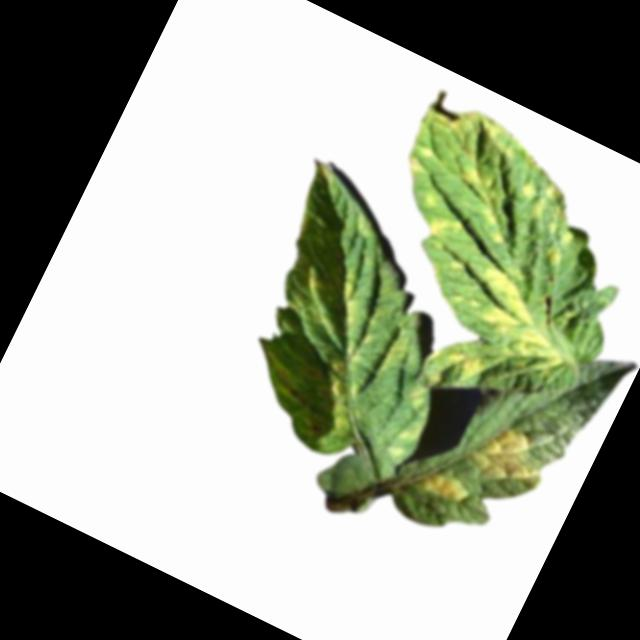Leaf_Mold: (396, 90, 537, 221), (453, 263, 589, 385), (462, 414, 556, 501), (306, 354, 375, 433), (416, 464, 475, 513), (532, 218, 579, 270), (375, 327, 417, 381), (513, 173, 558, 223), (424, 205, 469, 254), (443, 342, 486, 383), (299, 271, 336, 300), (395, 417, 427, 448)
